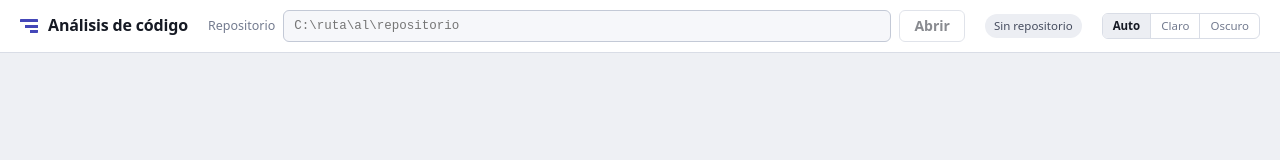
it: WorkspaceBar › un 409 chat_turn_running pide parar la respuesta antes de cambiar de repositorio
Step 1. Type "C:\\repos\\solo-lectura" into the field labelled "Repositorio" → point(587, 26), box [283,10,892,42]
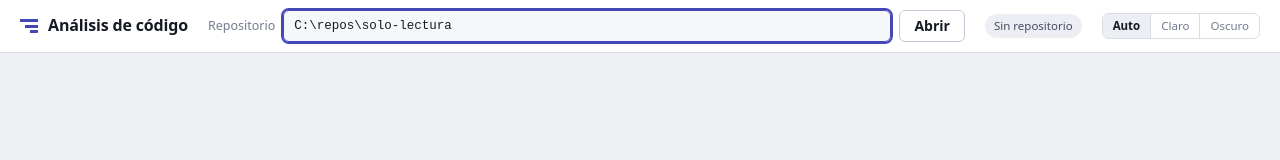
Step 2. Click the button "Abrir" → point(932, 26), box [899,10,965,42]
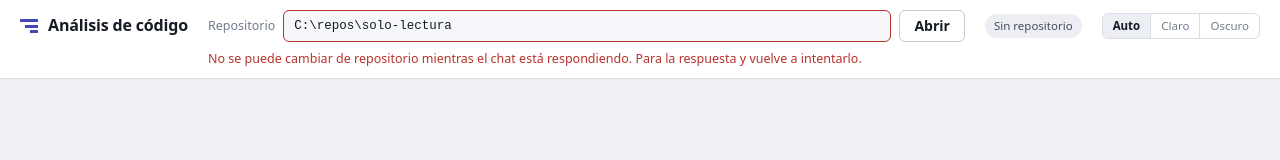
Result: the message shows "No se puede cambiar de repositorio mientras el chat está respondiendo." at [208,50,862,67]
